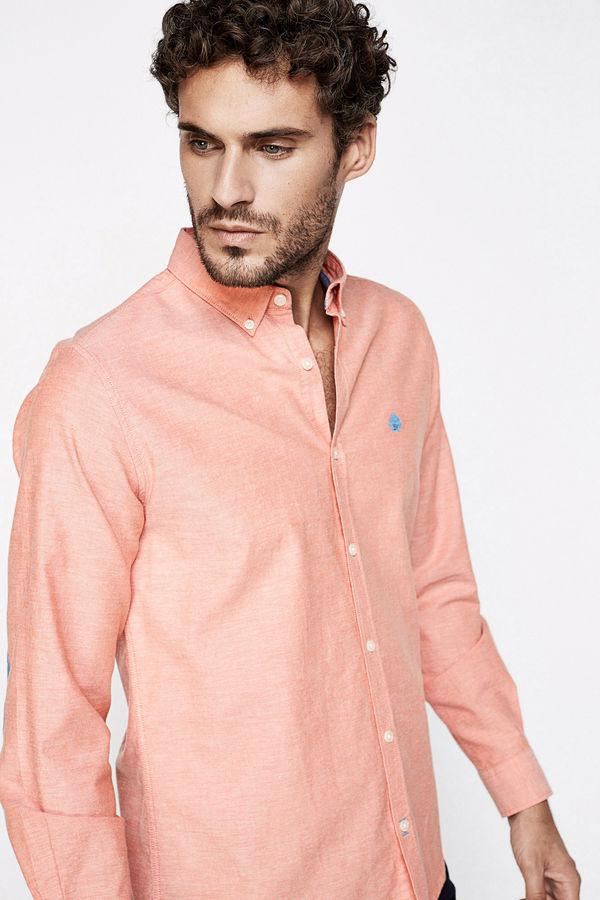teeshirt: (12, 247, 567, 826)
